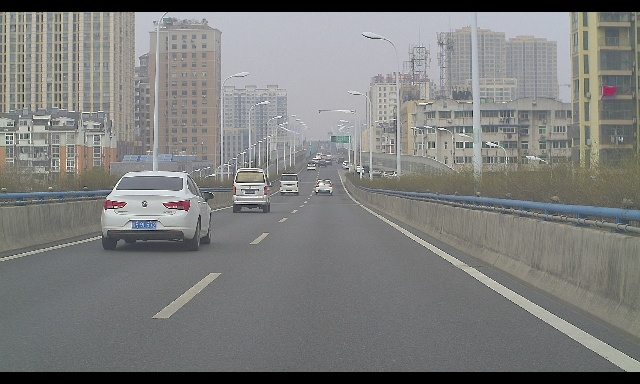car: (101, 171, 215, 251), (232, 168, 274, 213), (279, 173, 301, 195), (315, 179, 334, 196), (368, 167, 382, 178), (381, 170, 395, 180), (391, 171, 404, 179), (353, 166, 364, 175), (361, 164, 370, 173), (307, 163, 317, 171), (317, 160, 328, 167), (324, 158, 332, 166), (342, 161, 350, 168), (307, 160, 316, 166), (343, 163, 352, 169), (311, 158, 319, 164), (337, 158, 345, 164), (331, 156, 338, 161)
